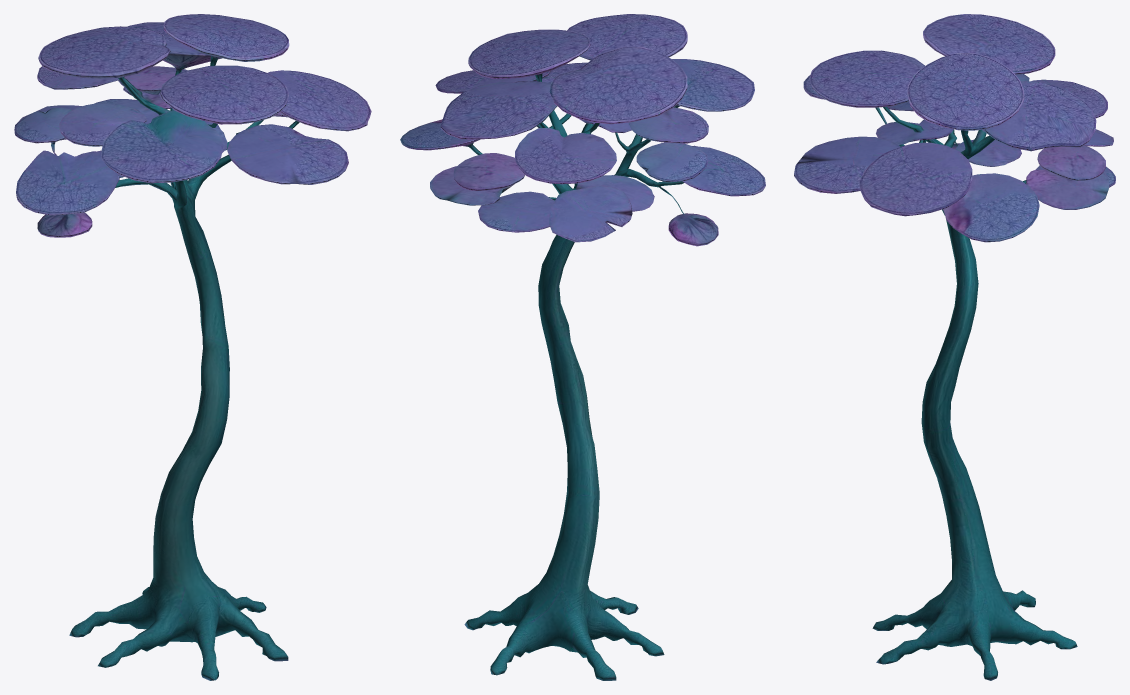
The model's file is prp_alien_tree_tall.glb.
3 views of the same model, side by side, from view 1: azimuth 30°, elevation 25°; view 2: azimuth 150°, elevation 25°; view 3: azimuth 270°, elevation 25° (orthographic). The views are drawn at different scales.
Size of the model in its own units: 0.5464 by 0.9517 by 0.4805.
Materials: 1 (1 with a texture image).
